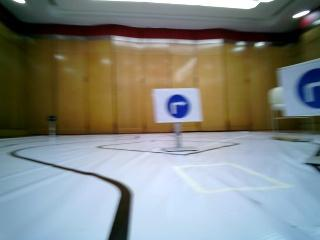right: (156, 93, 197, 122)
